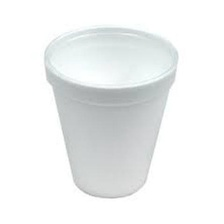paper_cup: (38, 18, 183, 202)
